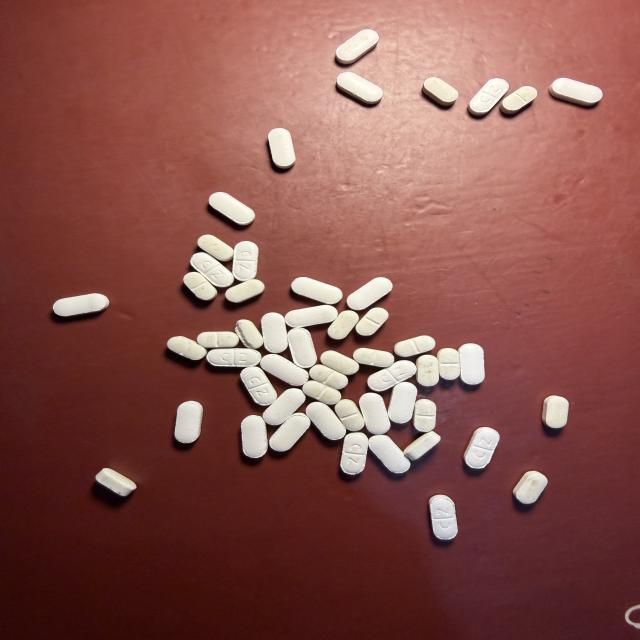pill: (369, 435, 410, 473), (260, 354, 308, 386), (270, 413, 310, 451), (209, 192, 255, 225), (263, 389, 305, 425), (336, 29, 379, 64), (347, 277, 392, 310), (307, 402, 346, 440), (468, 79, 508, 116), (337, 72, 383, 104), (191, 252, 233, 287), (464, 427, 499, 469), (368, 361, 416, 391), (549, 78, 602, 105), (241, 367, 277, 405), (292, 277, 342, 304), (359, 393, 390, 434), (429, 495, 457, 540), (53, 294, 109, 316), (388, 382, 417, 423), (284, 305, 338, 327), (175, 401, 203, 443), (340, 433, 368, 475), (288, 328, 317, 368), (513, 471, 547, 504), (96, 468, 136, 496), (241, 415, 267, 458), (268, 128, 295, 169), (261, 313, 288, 353), (458, 344, 484, 385), (232, 241, 258, 281), (500, 86, 537, 114), (423, 77, 458, 106), (404, 432, 440, 460), (309, 364, 348, 389), (207, 349, 261, 367), (167, 336, 206, 360), (335, 399, 364, 431), (184, 272, 217, 300), (303, 380, 341, 404), (226, 279, 264, 303), (321, 351, 359, 375), (198, 235, 233, 261), (356, 308, 388, 336), (328, 310, 358, 339), (542, 396, 569, 428), (394, 336, 435, 357), (235, 320, 263, 349), (354, 348, 394, 367), (437, 348, 460, 380), (414, 399, 436, 432), (417, 355, 439, 386), (197, 332, 239, 348)
